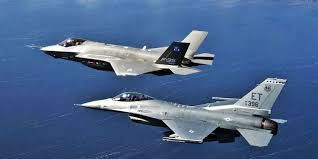fighter: (74, 74, 291, 149), (39, 27, 221, 81)
